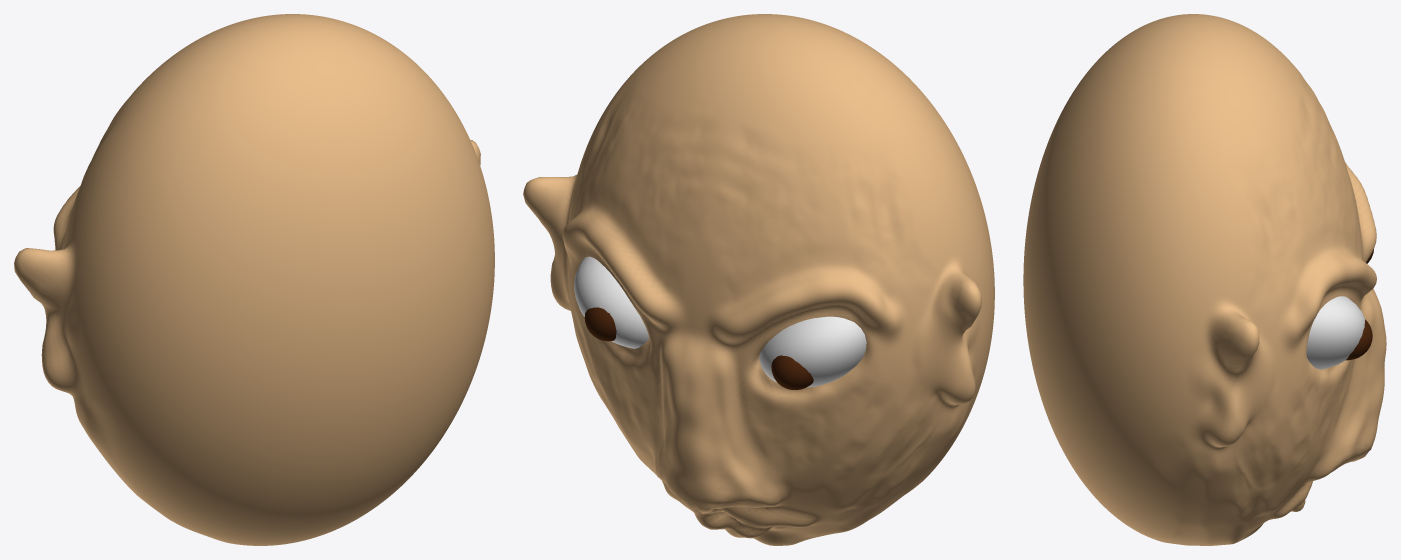
Rendered from Boss.fbx.
The picture shows the model from 3 angles, left to right: view 1: azimuth 30°, elevation 25°; view 2: azimuth 150°, elevation 25°; view 3: azimuth 270°, elevation 25°; orthographic projection. The views are drawn at different scales.
Visible parts, largest first — view 1: Icosphere; view 2: Icosphere, Sphere, eyes.001, eyes; view 3: Icosphere, Sphere, eyes.
Boxes of the visible parts, <box> form: Icosphere: <box>14,14,494,545</box>; Icosphere: <box>523,14,994,545</box>; Sphere: <box>574,256,866,387</box>; eyes.001: <box>771,355,813,389</box>; eyes: <box>584,307,616,341</box>; Icosphere: <box>1023,14,1386,545</box>; Sphere: <box>1306,296,1364,369</box>; eyes: <box>1346,319,1372,360</box>.
Size of the model in its own units: 312 by 327 by 216.
